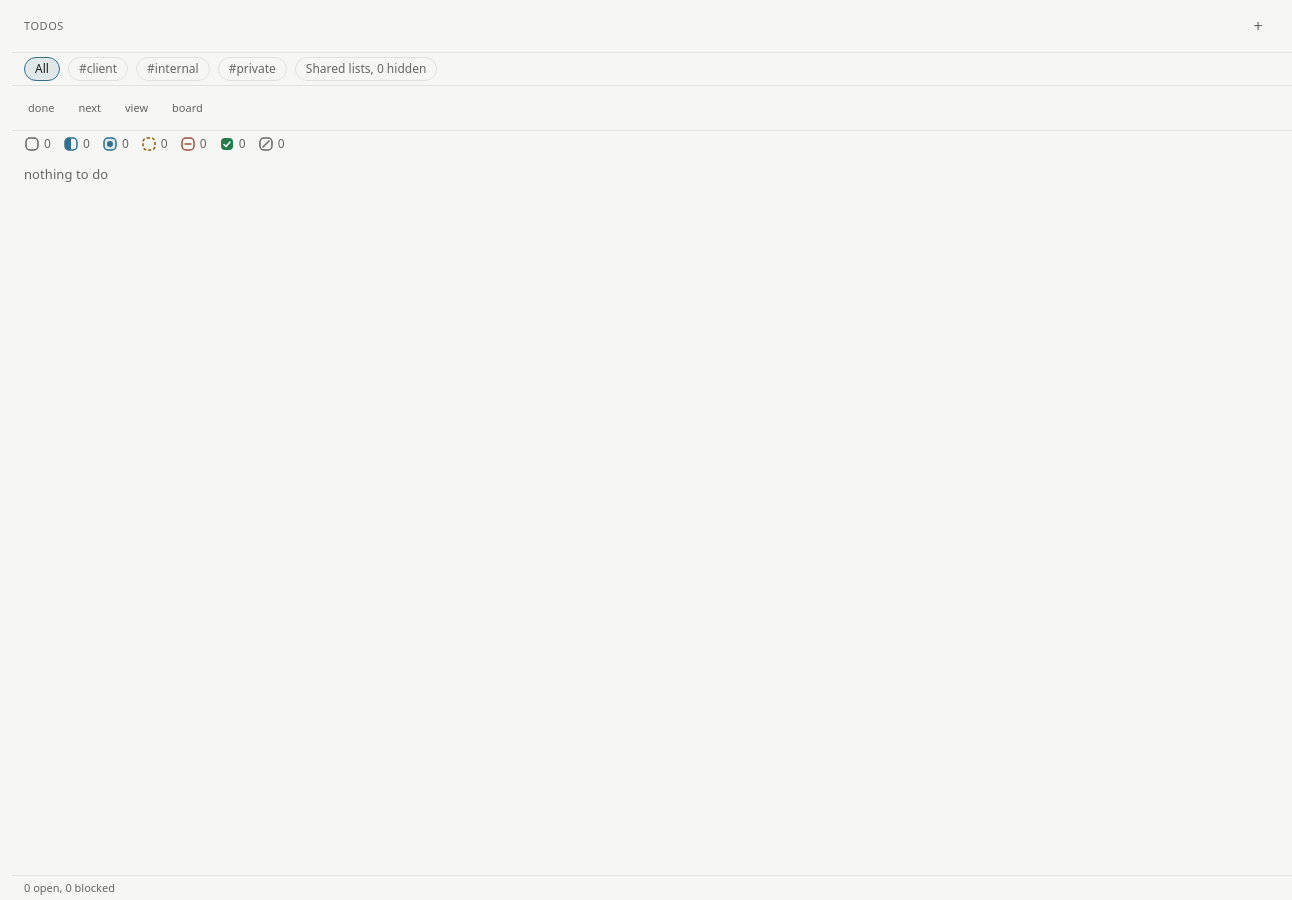
Test: the todo board › A1 the board button on a touch screen switches to the board and back
This screenshot has width=1292, height=900.
Click the button "board".
click(187, 108)  # box [160,86,215,130]
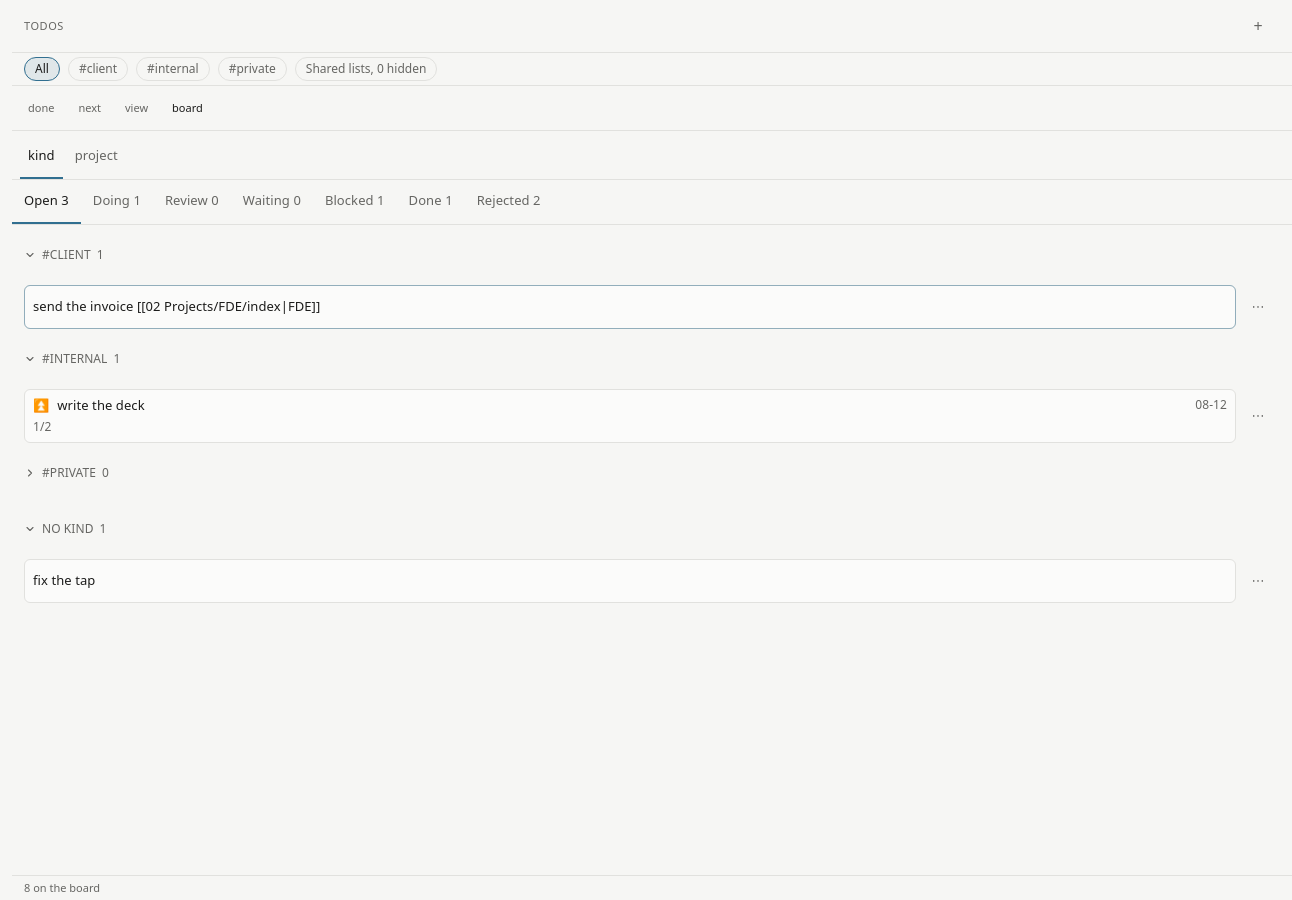
Expected: the button with test id "todo-card" is shown, [24,285,1236,329]
Click the button "board".
click(187, 108)  # box [160,86,215,130]
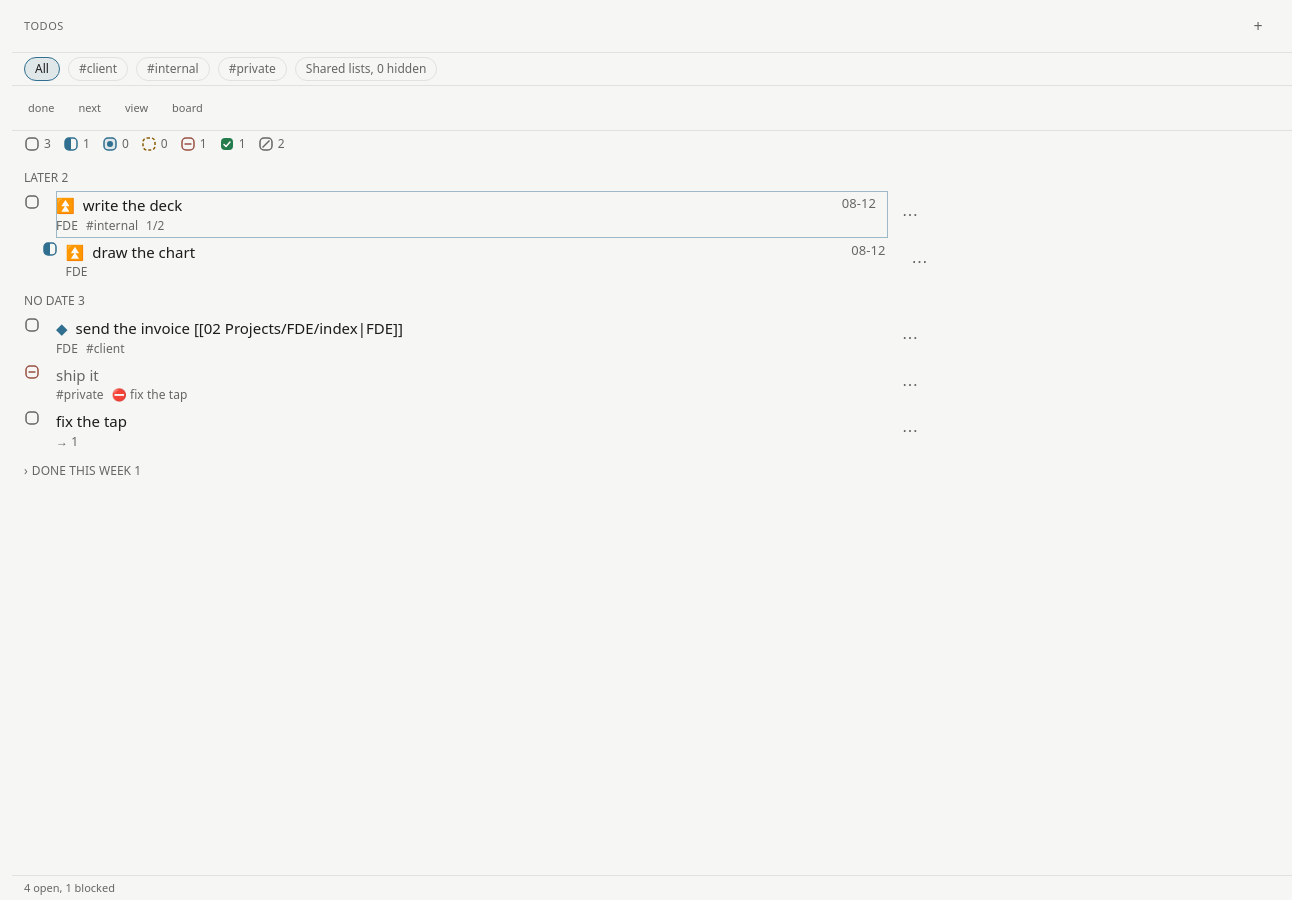
Expected: no buttons with test id "todo-card" are shown
